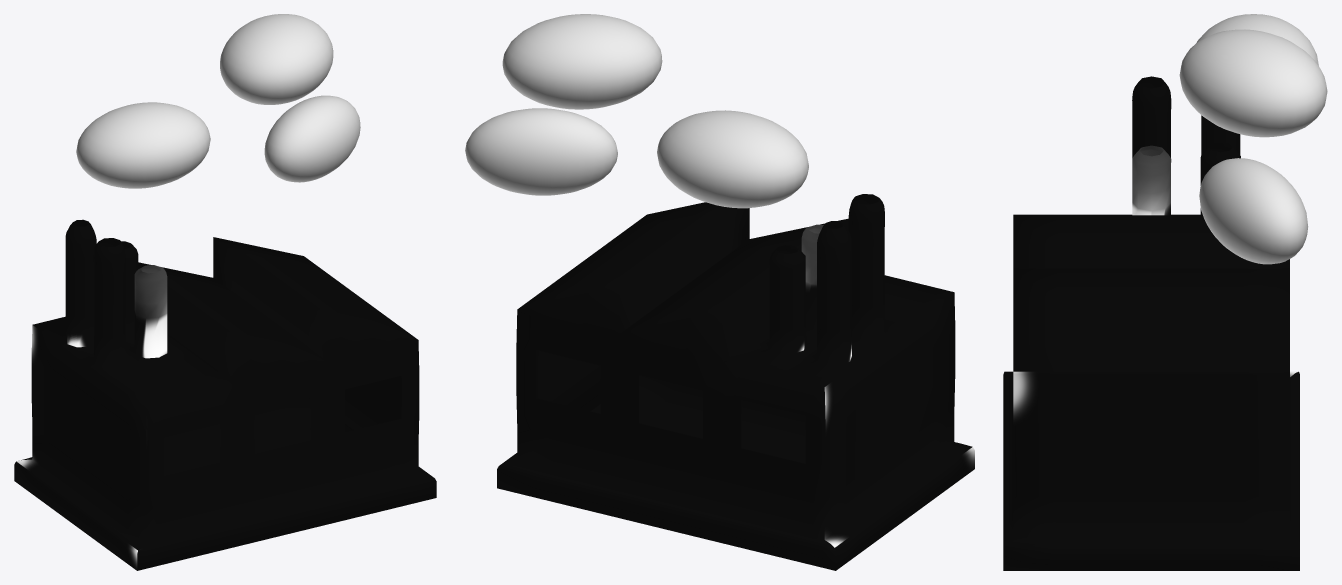
The model's file is factory.glb.
The picture shows the model from 3 angles, left to right: view 1: azimuth 30°, elevation 25°; view 2: azimuth 150°, elevation 25°; view 3: azimuth 270°, elevation 25°; orthographic projection. The views are drawn at different scales.
Visible parts, largest first — view 1: Plane, Sphere, Sphere.001, Sphere.002; view 2: Plane, Sphere.001, Sphere, Sphere.002; view 3: Plane, Sphere.001, Sphere.002, Sphere.
Boxes of the visible parts, left/top/right/bottom form: Plane: left=14, top=219, right=436, bottom=570; Sphere: left=76, top=102, right=210, bottom=188; Sphere.001: left=220, top=14, right=333, bottom=104; Sphere.002: left=264, top=95, right=360, bottom=182; Plane: left=497, top=194, right=974, bottom=570; Sphere.001: left=502, top=14, right=662, bottom=109; Sphere: left=657, top=110, right=808, bottom=208; Sphere.002: left=465, top=108, right=617, bottom=195; Plane: left=1003, top=76, right=1299, bottom=570; Sphere.001: left=1179, top=29, right=1327, bottom=137; Sphere.002: left=1199, top=158, right=1308, bottom=264; Sphere: left=1196, top=14, right=1318, bottom=65.
Bounding box in the file's own units: 2.21 × 2.61 × 1.54.
Materials: 1 (1 with a texture image).
